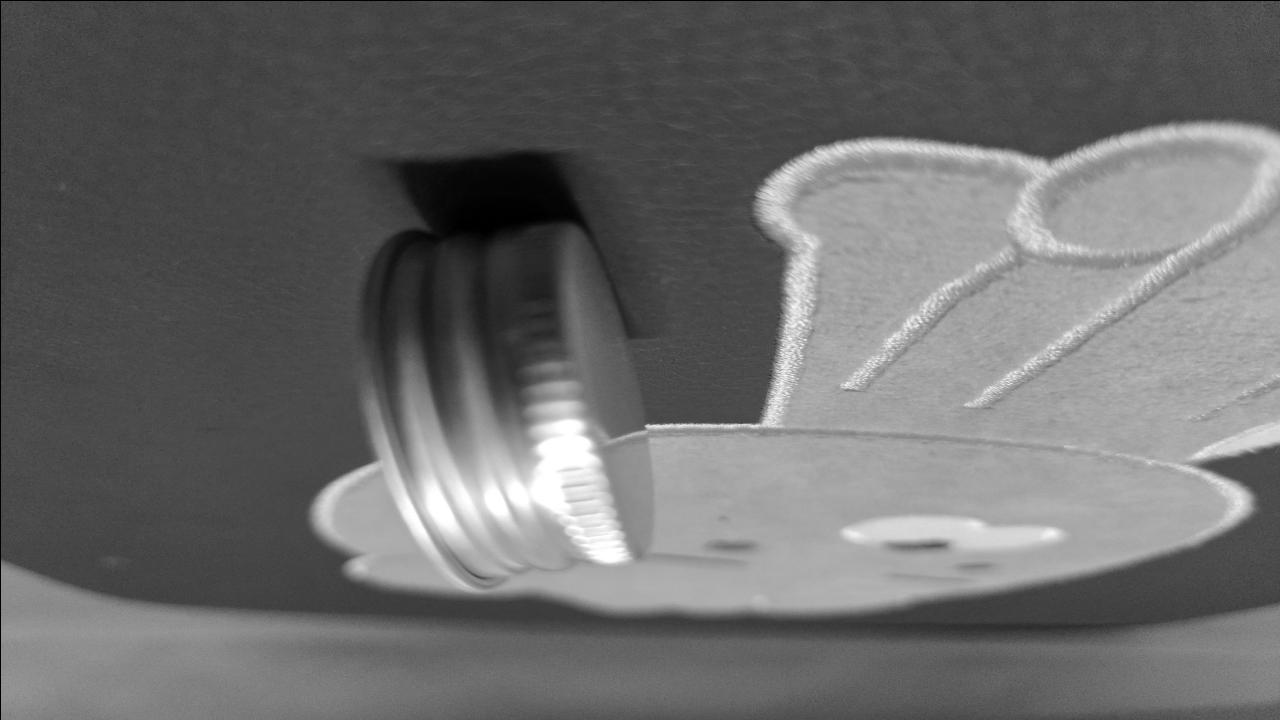bottle_cap: (352, 220, 643, 588)
